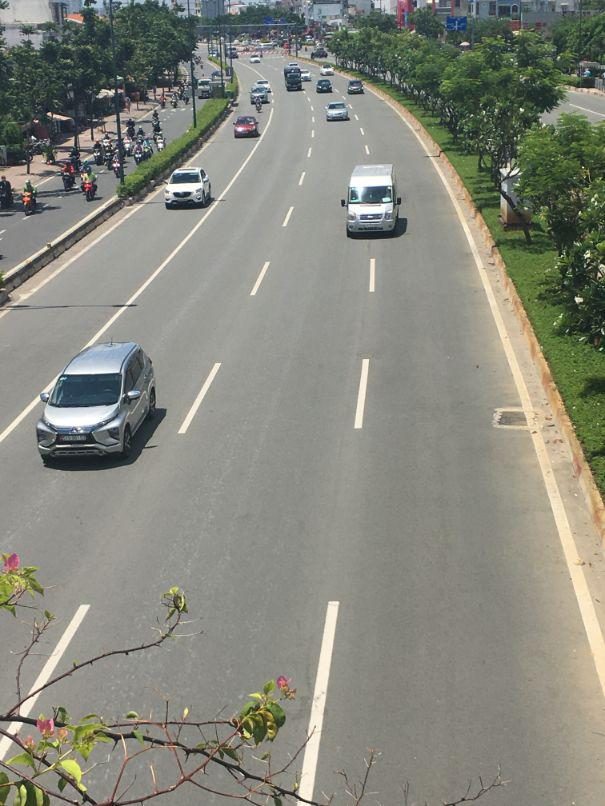car: (39, 336, 162, 466), (346, 163, 398, 237), (166, 168, 213, 213), (232, 111, 258, 138), (324, 101, 350, 123), (252, 82, 271, 107), (347, 79, 364, 95), (315, 78, 334, 92)
truck: (285, 64, 304, 92), (392, 338, 392, 342)
